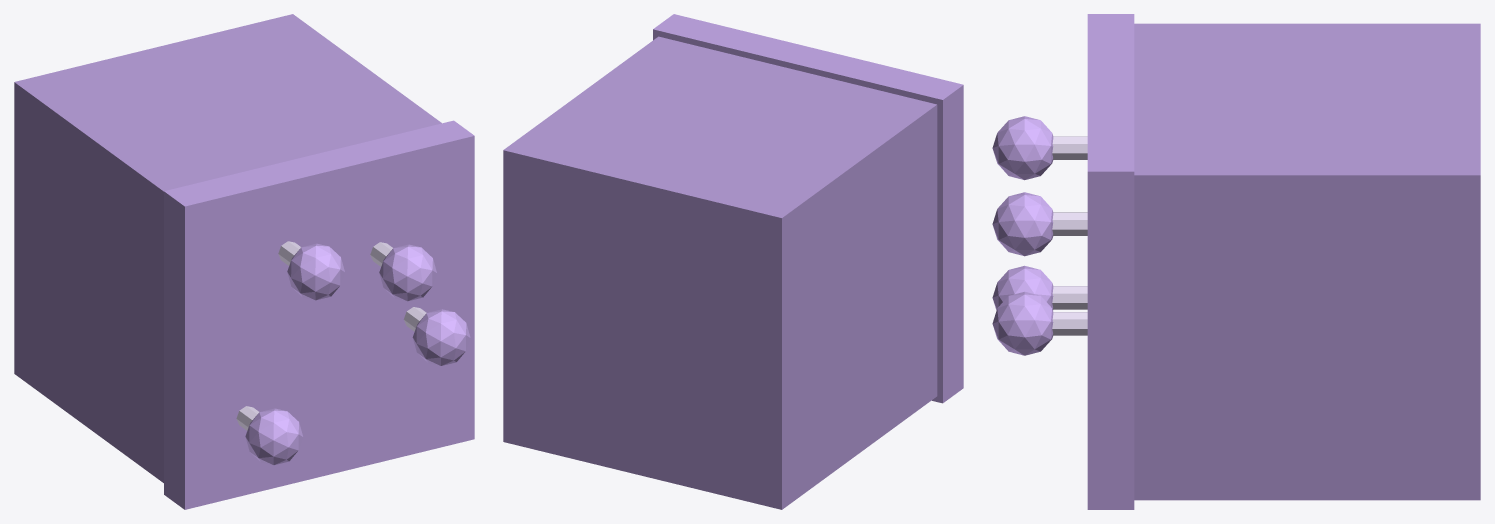
Rendered from 6_lumen_mycelium.glb.
3 views of the same model, side by side, from view 1: azimuth 30°, elevation 25°; view 2: azimuth 150°, elevation 25°; view 3: azimuth 270°, elevation 25° (orthographic). The views are drawn at different scales.
Visible parts, largest first — view 1: FungalTop, Core, MushCap_3, MushCap_0, MushCap_1, MushCap_2; view 2: Core, FungalTop; view 3: Core, FungalTop, MushCap_1, MushCap_3, MushCap_2, MushCap_0, MushStem_0, MushStem_1, MushStem_2, MushStem_3.
Part boxes in pixels (<box>): FungalTop: <box>164,120,474,509</box>; Core: <box>14,14,441,482</box>; MushCap_3: <box>379,244,436,301</box>; MushCap_0: <box>245,408,303,465</box>; MushCap_1: <box>412,309,470,365</box>; MushCap_2: <box>287,243,344,300</box>; Core: <box>503,36,937,509</box>; FungalTop: <box>653,14,963,403</box>; Core: <box>1134,23,1480,500</box>; FungalTop: <box>1087,14,1134,509</box>; MushCap_1: <box>992,291,1053,355</box>; MushCap_3: <box>992,192,1053,256</box>; MushCap_2: <box>992,116,1053,180</box>; MushCap_0: <box>992,265,1053,310</box>; MushStem_0: <box>1052,286,1087,309</box>; MushStem_1: <box>1052,312,1087,335</box>; MushStem_2: <box>1052,136,1087,159</box>; MushStem_3: <box>1052,212,1087,235</box>.
Bounding box in the file's own units: 1.04 × 1.04 × 1.36.
